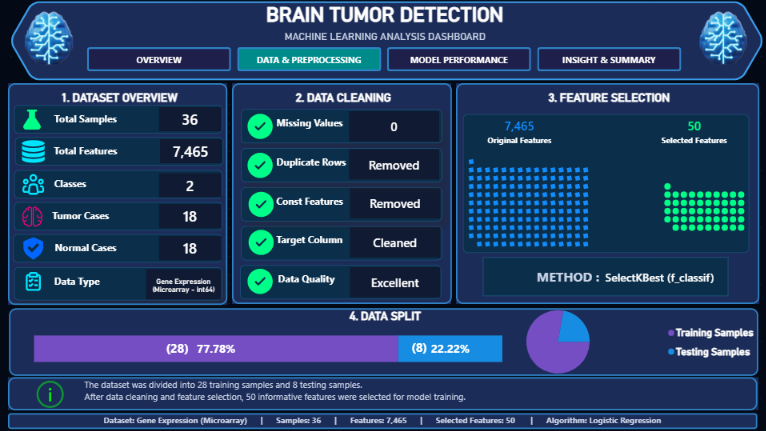

Layout of this report page (visuals, bound fields, positions):
{"tool":"powerbi","page":{"name":"DATA & PREPROCESSING","canvas":[1280,720],"ordinal":1},"visuals":[{"type":"textbox","title":"HEADING","box":[11,7.3,1259.5,38],"z":0,"group":"g19"},{"type":"shape","title":"2. DATA CLEANING","box":[385.5,139.5,366.1,368.3],"z":0,"group":"g10"},{"type":"group","id":"g1","title":"FEATURE SELECTION","box":[759.7,140,505.5,368.3],"z":0,"group":"g16"},{"type":"shape","title":"3. FEATURE SELECTION","box":[759.7,140,505.5,368.3],"z":0,"group":"g1"},{"type":"group","id":"g2","title":"DATASET OVERVIEW","box":[21,176,349.6,324.4],"z":0,"group":"g5"},{"type":"group","id":"g3","title":"Total Samples","box":[23.3,176,347.1,47],"z":0,"group":"g2"},{"type":"textbox","title":"Text box 1","box":[23.3,176,347.1,47],"z":0,"group":"g3"},{"type":"textbox","title":"Text box 1","box":[401.7,182.1,335,56.8],"z":0,"group":"g17"},{"type":"shape","title":"SHAPE","box":[771.3,191.4,477.1,231.4],"z":0,"group":"g11"},{"type":"textbox","title":"Text box 2","box":[23.5,229.9,347.1,47],"z":0,"group":"g22"},{"type":"textbox","title":"Text box 2","box":[401.9,247.3,335,56.8],"z":0,"group":"g20"},{"type":"textbox","title":"Text box 3","box":[22.3,283.8,347.1,47],"z":0,"group":"g12"},{"type":"textbox","title":"Text box 3","box":[400.7,312.4,335,56.8],"z":0,"group":"g13"},{"type":"textbox","title":"Text box 4","box":[22.3,337.6,347.1,47],"z":0,"group":"g21"},{"type":"textbox","title":"Text box 4","box":[400.7,377.6,335,56.8],"z":0,"group":"g7"},{"type":"textbox","title":" Text box 5","box":[21,391.5,347.1,47],"z":0,"group":"g18"},{"type":"group","id":"g4","title":"Data Quality","box":[399.5,442.8,335,56.8],"z":0,"group":"g6"},{"type":"textbox","title":"Text box 5","box":[399.5,442.8,335,56.8],"z":0,"group":"g4"},{"type":"textbox","title":"Text box 6","box":[22.3,445.4,347.1,55],"z":0,"group":"g8"},{"type":"hundredPercentStackedBarChart","fields":{"Y":["Sum(Data_Split.Count)"],"Series":["Data_Split.Sample Type"]},"box":[57,507.8,780.5,140.5],"z":0,"group":"g15"},{"type":"shape","title":"4. DATA SPLIT ","box":[15.3,514.8,1249,113],"z":0,"group":"g14"},{"type":"textbox","title":"TEXTBOX","box":[13.8,630,1249,55],"z":0,"group":"g9"},{"type":"textbox","title":"FOOTER","box":[13.9,690,1249,26],"z":0},{"type":"textbox","title":"SUBTITLE","box":[11,47.3,1260,30],"z":1000,"group":"g19"},{"type":"group","id":"g5","title":"DATASET OVERVIEW","box":[12.9,139.5,365.8,369.6],"z":1000,"group":"g16"},{"type":"shape","title":"1. DATASET OVERVIEW","box":[12.9,139.5,365.8,369.6],"z":1000,"group":"g5"},{"type":"cardVisual","title":" Card 1","fields":{"Data":["CountNonNull(cleaned_dataset.Sample ID)"]},"box":[264.4,179.9,103.6,40],"z":1000,"group":"g3"},{"type":"group","id":"g6","title":"DATA CLEANING","box":[399.5,182.1,337.4,317.5],"z":1000,"group":"g10"},{"type":"image","title":"1 img","box":[408.6,185.1,50,50],"z":1000,"group":"g17"},{"type":"cardVisual","title":"original feature","fields":{"Data":["Sum(Feature_Reduction.Feature Reduction Value)"]},"box":[771.3,191.4,188.6,51.7],"z":1000,"group":"g11"},{"type":"image","title":"Img 2","box":[34.9,233.7,37.5,40.3],"z":1000,"group":"g22"},{"type":"cardVisual","title":"Card 2","fields":{"Data":["Min(power_bi_summary.Column2)"]},"box":[582.5,249.6,150,50],"z":1000,"group":"g20"},{"type":"image","title":"Img 3","box":[35.3,287.6,37.5,40.3],"z":1000,"group":"g12"},{"type":"cardVisual","title":"Card 3","fields":{"Data":["Min(power_bi_summary.Column2)"]},"box":[582.5,314.6,150,50],"z":1000,"group":"g13"},{"type":"image","title":"Img 4","box":[33.6,340.8,37.5,40.3],"z":1000,"group":"g21"},{"type":"group","id":"g7","title":"Target Column","box":[400.7,377.6,335,56.8],"z":1000,"group":"g6"},{"type":"cardVisual","title":"Card 4","fields":{"Data":["Min(power_bi_summary.Column2)"]},"box":[582.5,379.6,150,50],"z":1000,"group":"g7"},{"type":"image","title":"Img 5","box":[36,395.3,37.5,40.3],"z":1000,"group":"g18"},{"type":"cardVisual","title":"Method","fields":{"Data":["Min(power_bi_summary.Column2)"]},"box":[805,430.6,408.5,64.7],"z":1000,"group":"g1"},{"type":"group","id":"g8","title":"Data Types","box":[22.3,445.4,347.1,55],"z":1000,"group":"g2"},{"type":"cardVisual","title":"Card 5","fields":{"Data":["Min(power_bi_summary.Column2)"]},"box":[582.5,445.6,150,50],"z":1000,"group":"g4"},{"type":"cardVisual","title":"Card 6","fields":{"Data":["Min(power_bi_summary.Column2)"]},"box":[243,448.9,125,50],"z":1000,"group":"g8"},{"type":"pieChart","title":"DONUT BAR","fields":{"Category":["Data_Split.Sample Type"],"Y":["Sum(Data_Split.Count)"]},"box":[748.1,505,530.1,132.2],"z":1000,"group":"g14"},{"type":"shape","title":"28","box":[258.3,556.7,74.3,48.6],"z":1000,"group":"g15"},{"type":"group","id":"g9","title":"BODY  3","box":[13.8,630,1249,55],"z":1000},{"type":"image","title":"img","box":[58.6,632.9,50,50],"z":1000,"group":"g9"},{"type":"shape","title":"BORDER","box":[14.5,3.8,1259.5,132],"z":2000,"group":"g19"},{"type":"group","id":"g10","title":"DATA CLEANING","box":[385.5,139.5,366.1,368.3],"z":2000,"group":"g16"},{"type":"image","title":"Img 1","box":[33.6,178,40.3,44.5],"z":2000,"group":"g3"},{"type":"cardVisual","title":" Card 1","fields":{"Data":["Min(power_bi_summary.Column2)"]},"box":[582.5,184.6,150,50],"z":2000,"group":"g17"},{"type":"group","id":"g11","title":"Features","box":[771.3,191.4,477.1,231.4],"z":2000,"group":"g1"},{"type":"cardVisual","title":"selected feature","fields":{"Data":["Sum(Feature_Reduction.Feature Reduction Value)"]},"box":[1064.2,191.4,184.3,51.7],"z":2000,"group":"g11"},{"type":"cardVisual","title":"Card 2","fields":{"Data":["Sum(Feature_Reduction.Feature Reduction Value)"]},"box":[265.1,233,102.9,40],"z":2000,"group":"g22"},{"type":"image","title":"2 img","box":[408.6,250.1,50,50],"z":2000,"group":"g20"},{"type":"group","id":"g12","title":"Classes","box":[22.3,283.8,347.1,47],"z":2000,"group":"g2"},{"type":"cardVisual","title":"Card 3","fields":{"Data":["Count(cleaned_dataset.Diagnosis)"]},"box":[264.4,288,103.6,40],"z":2000,"group":"g12"},{"type":"group","id":"g13","title":"Const Features","box":[400.7,312.4,335,56.8],"z":2000,"group":"g6"},{"type":"image","title":"3 img","box":[408.6,315,50,50],"z":2000,"group":"g13"},{"type":"cardVisual","title":" Card 4","fields":{"Data":["CountNonNull(cleaned_dataset.Diagnosis)"]},"box":[264.4,341,103.6,40],"z":2000,"group":"g21"},{"type":"image","title":"4 img","box":[408.6,380,50,50],"z":2000,"group":"g7"},{"type":"cardVisual","title":"Card 5","fields":{"Data":["CountNonNull(cleaned_dataset.Diagnosis)"]},"box":[264.4,395,103.6,40],"z":2000,"group":"g18"},{"type":"image","title":"5 img","box":[408.6,445.1,50,50],"z":2000,"group":"g4"},{"type":"image","title":"Img 6","box":[35,449.3,37.5,40.3],"z":2000,"group":"g8"},{"type":"group","id":"g14","title":"BODY 2","box":[15.3,505,1262.9,143.3],"z":2000},{"type":"group","id":"g15","title":"STACKED BAR","box":[57,507.8,780.5,140.5],"z":2000,"group":"g14"},{"type":"shape","title":"8","box":[667.4,552.6,64,51.5],"z":2000,"group":"g15"},{"type":"image","title":"LEFT BRAIN","box":[20,12.3,122.8,105.5],"z":3000,"group":"g19"},{"type":"group","id":"g16","title":"BODY 1","box":[12.9,139.5,1252.3,369.6],"z":3000},{"type":"group","id":"g17","title":"Missing Values","box":[401.7,182.1,335,56.8],"z":3000,"group":"g6"},{"type":"scatterChart","title":"dots","fields":{"Series":["Dots Coordinates.Type"],"X":["Sum(Dots Coordinates.XPos)"],"Y":["Sum(Dots Coordinates.YPos)"],"Category":["Dots Coordinates.Value"]},"box":[771.3,243.1,477.1,179.7],"z":3000,"group":"g11"},{"type":"group","id":"g18","title":"Normal Cases","box":[21,391.5,347.1,47],"z":3000,"group":"g2"},{"type":"group","id":"g19","title":"HEADER","box":[11,3.8,1263,132],"z":4000},{"type":"image","title":"RIGHT BRAIN","box":[1140,12.3,131,104.5],"z":4000,"group":"g19"},{"type":"group","id":"g20","title":"Duplicate Rows","box":[401.9,247.3,335,56.8],"z":4000,"group":"g6"},{"type":"group","id":"g21","title":"Tumor Cases","box":[22.3,337.6,347.1,47],"z":4000,"group":"g2"},{"type":"pageNavigator","box":[145,80,992,40],"z":5000,"group":"g19"},{"type":"group","id":"g22","title":"Total Features","box":[23.5,229.9,347.1,47],"z":5000,"group":"g2"}]}

Visuals, with their boxes in screenshot pixels (x1, y1, x2, y2), scaled from the page's 1280x720 canvas onto the 766x431 screenshot:
"HEADING" textbox: select_region(7, 4, 760, 27)
"2. DATA CLEANING" shape: select_region(231, 84, 450, 304)
"FEATURE SELECTION" group: select_region(455, 84, 757, 304)
"3. FEATURE SELECTION" shape: select_region(455, 84, 757, 304)
"DATASET OVERVIEW" group: select_region(13, 105, 222, 300)
"Total Samples" group: select_region(14, 105, 222, 133)
"Text box 1" textbox: select_region(14, 105, 222, 133)
"Text box 1" textbox: select_region(240, 109, 441, 143)
"SHAPE" shape: select_region(462, 115, 747, 253)
"Text box 2" textbox: select_region(14, 138, 222, 166)
"Text box 2" textbox: select_region(241, 148, 441, 182)
"Text box 3" textbox: select_region(13, 170, 221, 198)
"Text box 3" textbox: select_region(240, 187, 440, 221)
"Text box 4" textbox: select_region(13, 202, 221, 230)
"Text box 4" textbox: select_region(240, 226, 440, 260)
" Text box 5" textbox: select_region(13, 234, 220, 262)
"Data Quality" group: select_region(239, 265, 440, 299)
"Text box 5" textbox: select_region(239, 265, 440, 299)
"Text box 6" textbox: select_region(13, 267, 221, 300)
hundredPercentStackedBarChart - Sum(Data_Split.Count) x Data_Split.Sample Type: select_region(34, 304, 501, 388)
"4. DATA SPLIT " shape: select_region(9, 308, 757, 376)
"TEXTBOX" textbox: select_region(8, 377, 756, 410)
"FOOTER" textbox: select_region(8, 413, 756, 429)
"SUBTITLE" textbox: select_region(7, 28, 761, 46)
"DATASET OVERVIEW" group: select_region(8, 84, 227, 305)
"1. DATASET OVERVIEW" shape: select_region(8, 84, 227, 305)
" Card 1" cardVisual: select_region(158, 108, 220, 132)
"DATA CLEANING" group: select_region(239, 109, 441, 299)
"1 img" image: select_region(245, 111, 274, 141)
"original feature" cardVisual: select_region(462, 115, 574, 146)
"Img 2" image: select_region(21, 140, 43, 164)
"Card 2" cardVisual: select_region(349, 149, 438, 179)
"Img 3" image: select_region(21, 172, 44, 196)
"Card 3" cardVisual: select_region(349, 188, 438, 218)
"Img 4" image: select_region(20, 204, 43, 228)
"Target Column" group: select_region(240, 226, 440, 260)
"Card 4" cardVisual: select_region(349, 227, 438, 257)
"Img 5" image: select_region(22, 237, 44, 261)
"Method" cardVisual: select_region(482, 258, 726, 296)
"Data Types" group: select_region(13, 267, 221, 300)
"Card 5" cardVisual: select_region(349, 267, 438, 297)
"Card 6" cardVisual: select_region(145, 269, 220, 299)
"DONUT BAR" pieChart: select_region(448, 302, 765, 381)
"28" shape: select_region(155, 333, 199, 362)
"BODY  3" group: select_region(8, 377, 756, 410)
"img" image: select_region(35, 379, 65, 409)
"BORDER" shape: select_region(9, 2, 762, 81)
"DATA CLEANING" group: select_region(231, 84, 450, 304)
"Img 1" image: select_region(20, 107, 44, 133)
" Card 1" cardVisual: select_region(349, 111, 438, 140)
"Features" group: select_region(462, 115, 747, 253)
"selected feature" cardVisual: select_region(637, 115, 747, 146)
"Card 2" cardVisual: select_region(159, 139, 220, 163)
"2 img" image: select_region(245, 150, 274, 180)
"Classes" group: select_region(13, 170, 221, 198)
"Card 3" cardVisual: select_region(158, 172, 220, 196)
"Const Features" group: select_region(240, 187, 440, 221)
"3 img" image: select_region(245, 189, 274, 218)
" Card 4" cardVisual: select_region(158, 204, 220, 228)
"4 img" image: select_region(245, 227, 274, 257)
"Card 5" cardVisual: select_region(158, 236, 220, 260)
"5 img" image: select_region(245, 266, 274, 296)
"Img 6" image: select_region(21, 269, 43, 293)
"BODY 2" group: select_region(9, 302, 765, 388)
"STACKED BAR" group: select_region(34, 304, 501, 388)
"8" shape: select_region(399, 331, 438, 362)
"LEFT BRAIN" image: select_region(12, 7, 85, 71)
"BODY 1" group: select_region(8, 84, 757, 305)
"Missing Values" group: select_region(240, 109, 441, 143)
"dots" scatterChart: select_region(462, 146, 747, 253)
"Normal Cases" group: select_region(13, 234, 220, 262)
"HEADER" group: select_region(7, 2, 762, 81)
"RIGHT BRAIN" image: select_region(682, 7, 761, 70)
"Duplicate Rows" group: select_region(241, 148, 441, 182)
"Tumor Cases" group: select_region(13, 202, 221, 230)
pageNavigator: select_region(87, 48, 680, 72)
"Total Features" group: select_region(14, 138, 222, 166)
